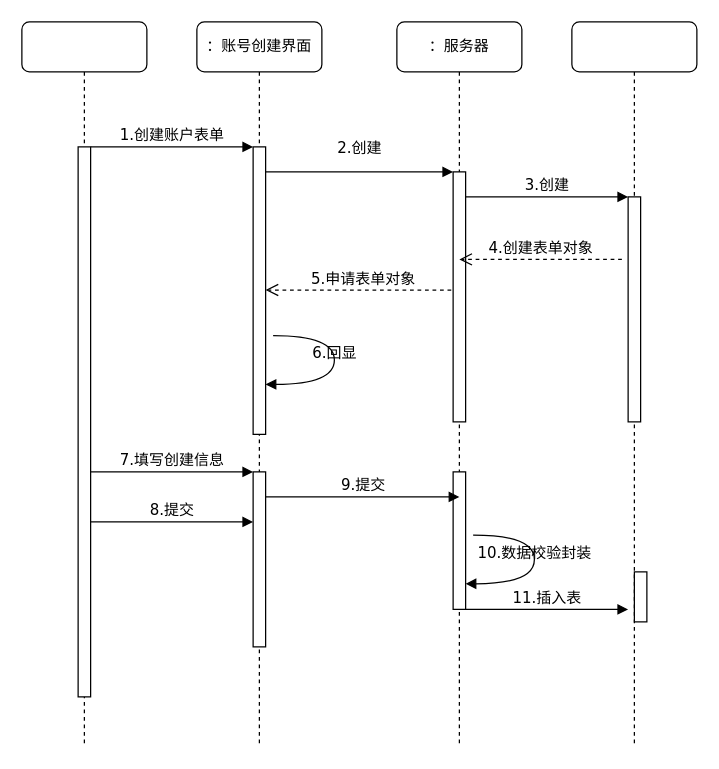
The diagram is 719 pixels wide and 769 high, and some of its shapes have lost their labels. The box of each missing label's shape, as (x1, y1, x2, y2) in pixels:
：学生教师表: (571, 21, 697, 747)
：管理员: (21, 21, 147, 747)
